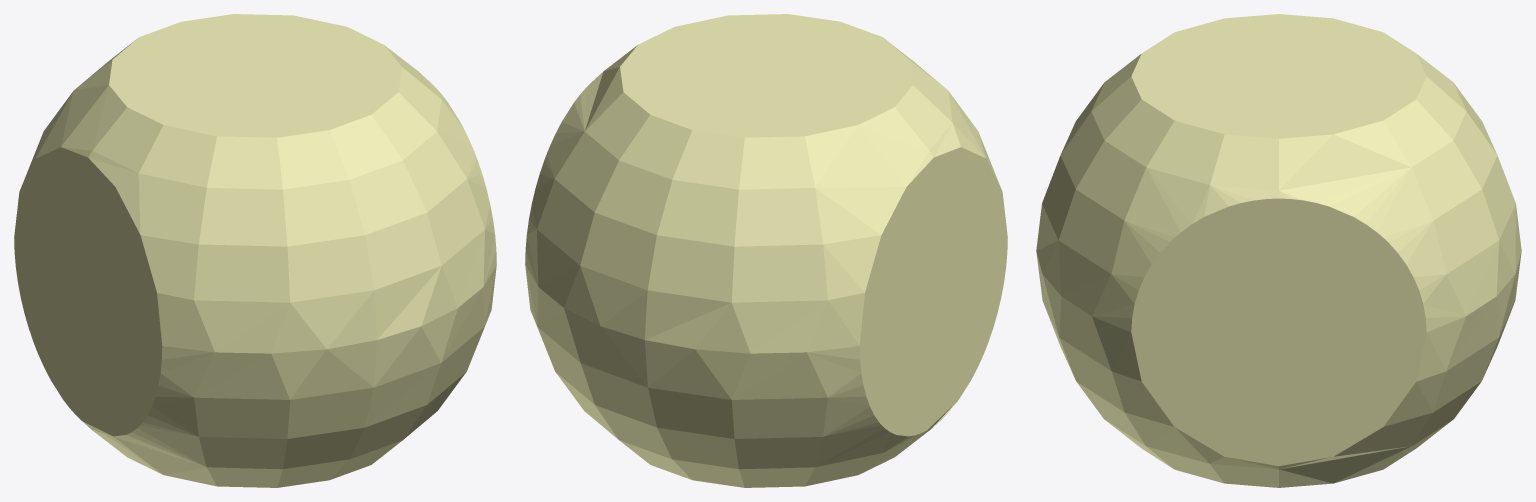
File: LARM_HAND_DUMMY1_LINK_mesh.dae
The picture shows the model from 3 angles, left to right: view 1: azimuth 30°, elevation 25°; view 2: azimuth 150°, elevation 25°; view 3: azimuth 270°, elevation 25°; orthographic projection.
Visible parts, largest first — view 1: LARM_HAND_DUMMY1_LINK; view 2: LARM_HAND_DUMMY1_LINK; view 3: LARM_HAND_DUMMY1_LINK.
Boxes of the visible parts, bbox=[...] form: LARM_HAND_DUMMY1_LINK: bbox=[14, 14, 496, 487]; LARM_HAND_DUMMY1_LINK: bbox=[525, 14, 1007, 487]; LARM_HAND_DUMMY1_LINK: bbox=[1036, 14, 1521, 487].
Size of the model in its own units: 0.05 by 0.05 by 0.063.
